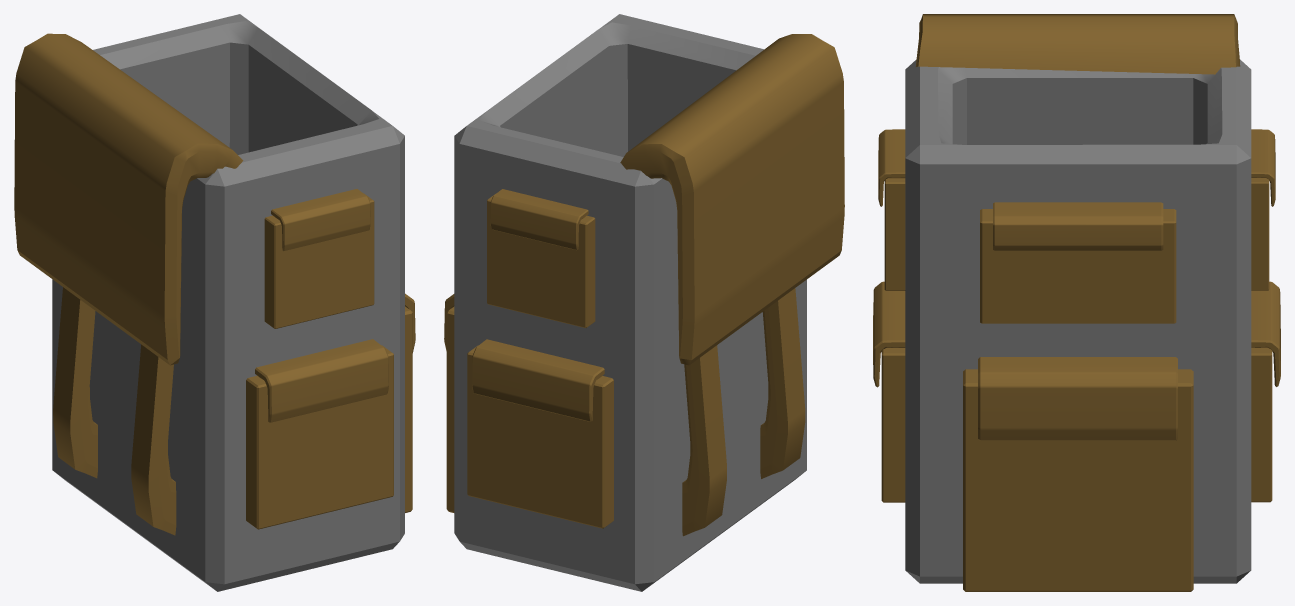
Rendered from Backpack_1.obj.
3 renders of one model, left to right at view 1: azimuth 30°, elevation 25°; view 2: azimuth 150°, elevation 25°; view 3: azimuth 270°, elevation 25°, orthographic. The views are drawn at different scales.
Parts seen in each view (by area): view 1: pCube3, polySurface8 polySurface18, polySurface9, polySurface10, polySurface8 polySurface20, polySurface19 polySurface8, polySurface17; view 2: pCube3, polySurface8 polySurface18, polySurface16, polySurface12, polySurface8 polySurface20, polySurface19 polySurface8, polySurface17; view 3: pCube3, polySurface17, polySurface13, polySurface8 polySurface18, polySurface8 polySurface14, polySurface9, polySurface16, polySurface10, polySurface12.
Part boxes in pixels (<box>): pCube3: <box>52,14,404,591</box>; polySurface8 polySurface18: <box>14,33,243,365</box>; polySurface9: <box>246,339,393,529</box>; polySurface10: <box>264,189,374,328</box>; polySurface8 polySurface20: <box>131,344,176,535</box>; polySurface19 polySurface8: <box>53,287,97,478</box>; polySurface17: <box>405,306,412,512</box>; pCube3: <box>454,14,806,591</box>; polySurface8 polySurface18: <box>620,34,844,365</box>; polySurface16: <box>467,339,613,528</box>; polySurface12: <box>487,189,595,327</box>; polySurface8 polySurface20: <box>760,288,805,478</box>; polySurface19 polySurface8: <box>682,345,726,536</box>; polySurface17: <box>446,306,454,512</box>; pCube3: <box>905,59,1251,583</box>; polySurface17: <box>963,369,1193,591</box>; polySurface13: <box>980,202,1176,323</box>; polySurface8 polySurface18: <box>915,14,1240,74</box>; polySurface8 polySurface14: <box>978,357,1177,440</box>; polySurface9: <box>873,281,905,502</box>; polySurface16: <box>1251,281,1280,502</box>; polySurface10: <box>878,129,905,290</box>; polySurface12: <box>1251,129,1275,290</box>.
Bounding box in the file's own units: 2.54 × 3.94 × 3.11.
